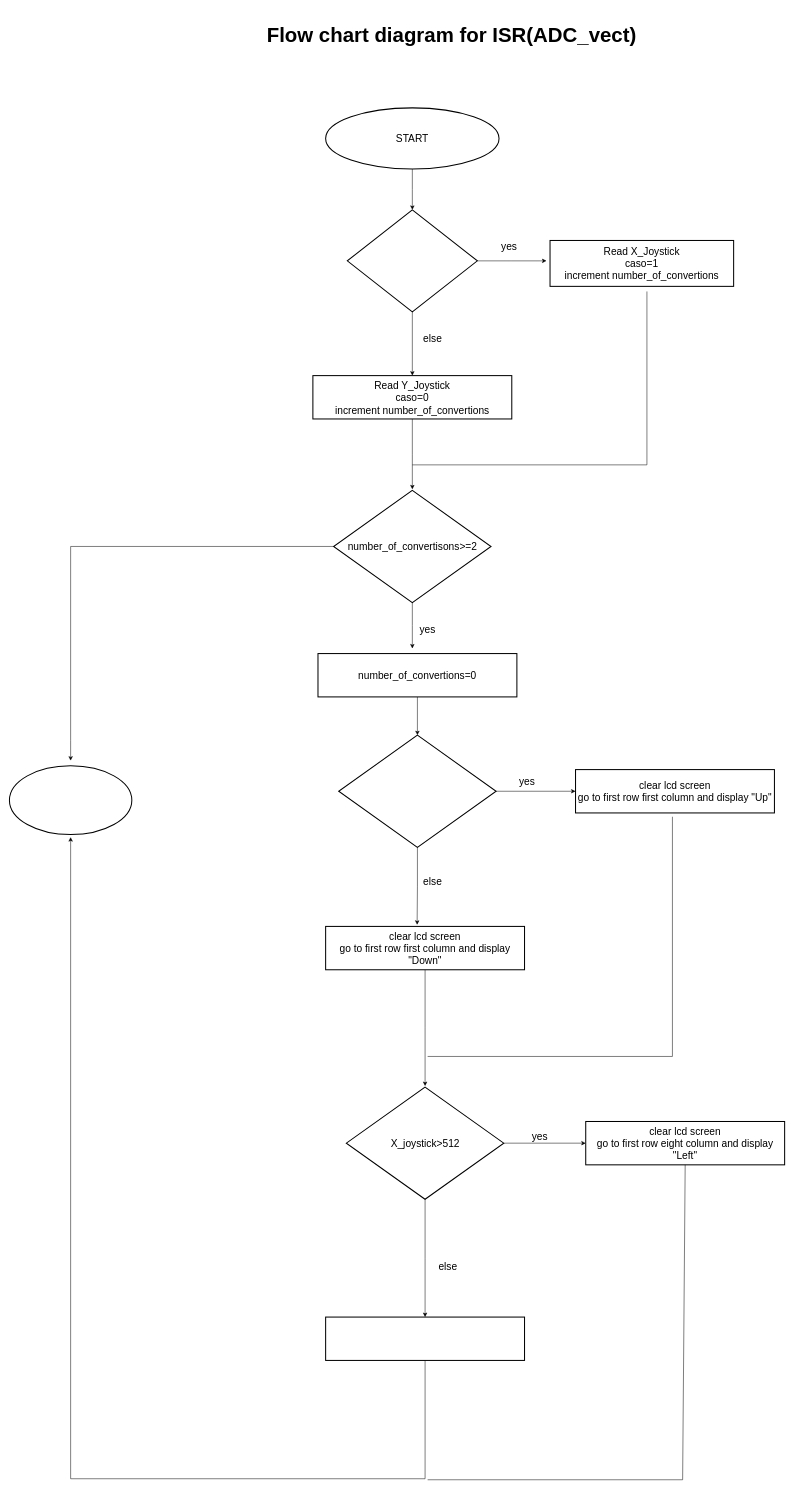
The diagram is 794 pixels wide and 1492 high, and some of its shapes have lost their labels. The shapes that lost their labels are listed below. From the top down, each one's centre as x and y in pixels, then its label:
point (412, 260): caso==0
point (70, 800): END
point (417, 791): Y_joystick>512
point (425, 1338): clear lcd screen go to first row eight column and display "Right"
